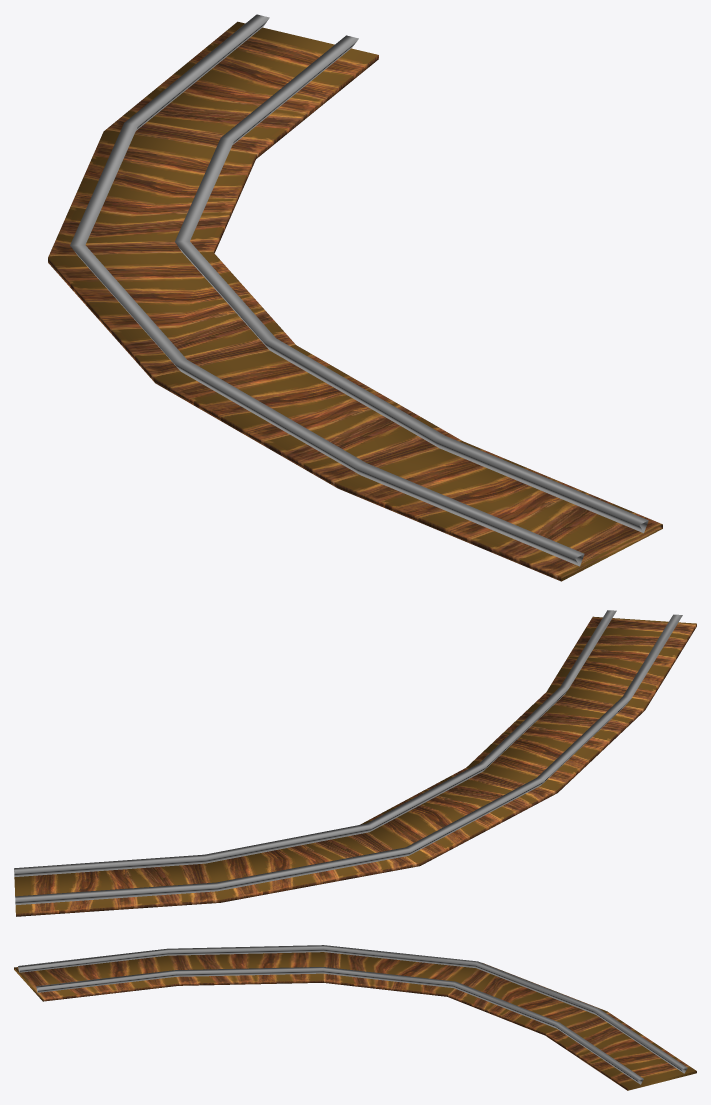
Rendered from SWORDLIGHT20_TRACK5.fbx.
The picture shows the model from 3 angles, top to bottom: view 1: azimuth 30°, elevation 25°; view 2: azimuth 150°, elevation 25°; view 3: azimuth 270°, elevation 25°; orthographic projection. The views are drawn at different scales.
Parts seen in each view (by area): view 1: SWORDLIGHT20_TRACK5; view 2: SWORDLIGHT20_TRACK5; view 3: SWORDLIGHT20_TRACK5.
Boxes of the visible parts, x1,y1,x2,y2 form: SWORDLIGHT20_TRACK5: (48, 14, 662, 581); SWORDLIGHT20_TRACK5: (14, 610, 696, 916); SWORDLIGHT20_TRACK5: (14, 945, 696, 1090).
Bounding box in the file's own units: 61446 × 5340 × 137743.
Materials: 2 (2 with a texture image).
